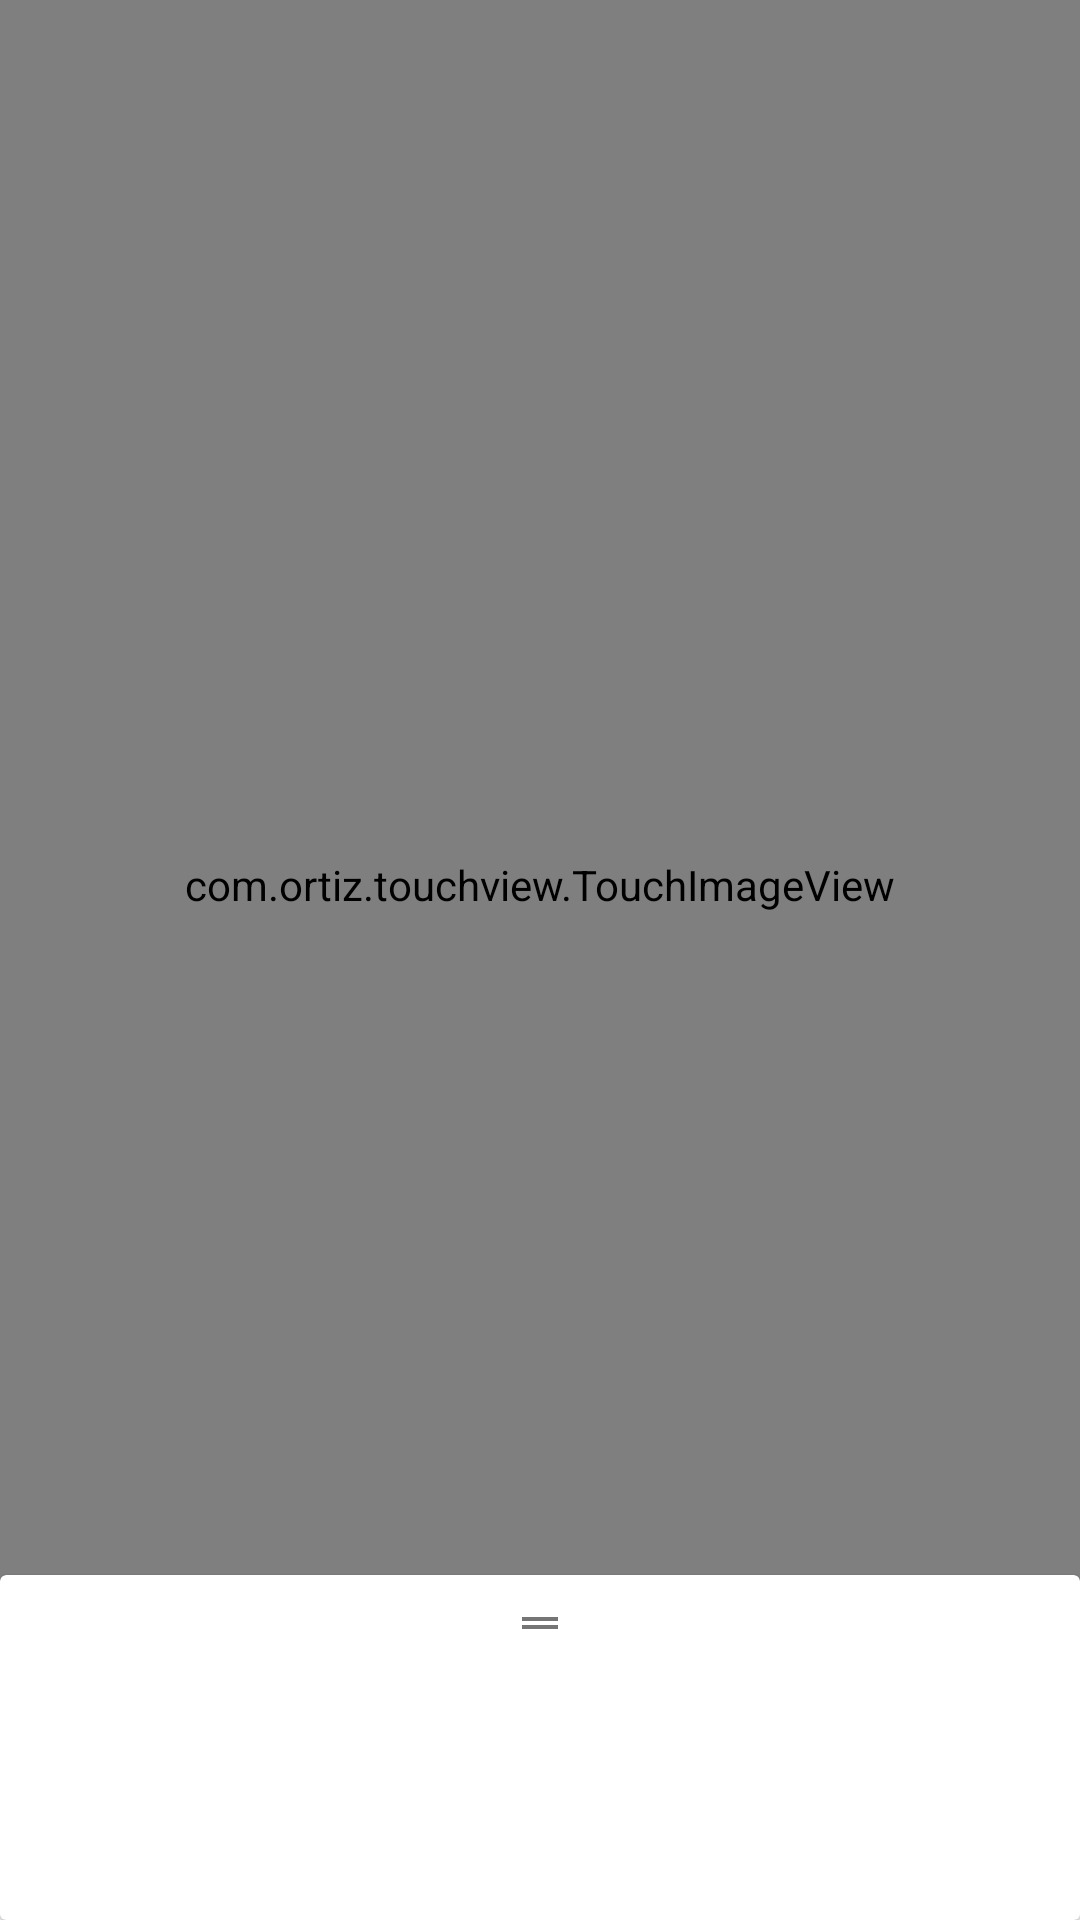

Icons on this 1080*1920 Android screen, each with the point to tap as point (x, y):
drag horizontal variant: point (540, 1623)
